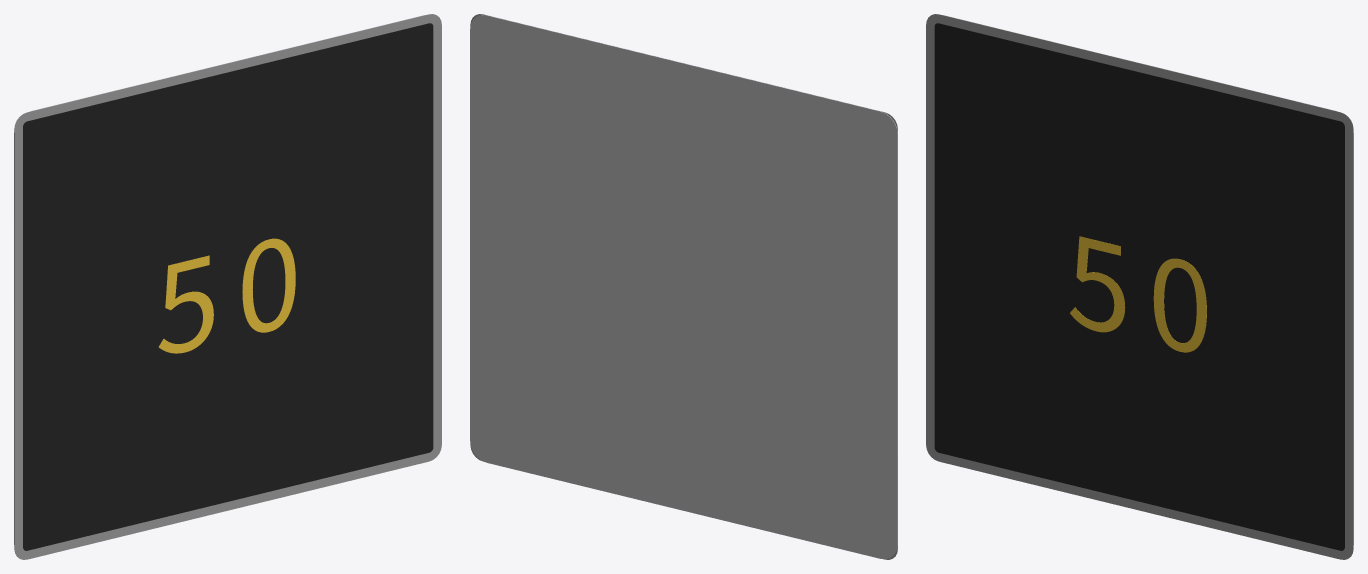
3 views of the same model, side by side, from view 1: azimuth 30°, elevation 25°; view 2: azimuth 150°, elevation 25°; view 3: azimuth 330°, elevation 25° (orthographic).
Visible parts, largest first — view 1: XB14_fond01, XB14_cadre00, XB14_txt02, XB14_dos; view 2: XB14_dos, XB14_cadre00; view 3: XB14_fond01, XB14_cadre00, XB14_txt02, XB14_dos.
Part boxes in pixels (left/top/right/bottom): XB14_fond01: left=23, top=23, right=433, bottom=550; XB14_cadre00: left=14, top=14, right=441, bottom=559; XB14_txt02: left=158, top=238, right=295, bottom=353; XB14_dos: left=14, top=15, right=424, bottom=544; XB14_dos: left=470, top=15, right=897, bottom=559; XB14_cadre00: left=470, top=14, right=897, bottom=559; XB14_fond01: left=934, top=23, right=1344, bottom=550; XB14_cadre00: left=926, top=14, right=1353, bottom=559; XB14_txt02: left=1070, top=236, right=1206, bottom=352; XB14_dos: left=943, top=15, right=1353, bottom=544.
Bounding box in the file's own units: 1 × 1 × 0.0025.
